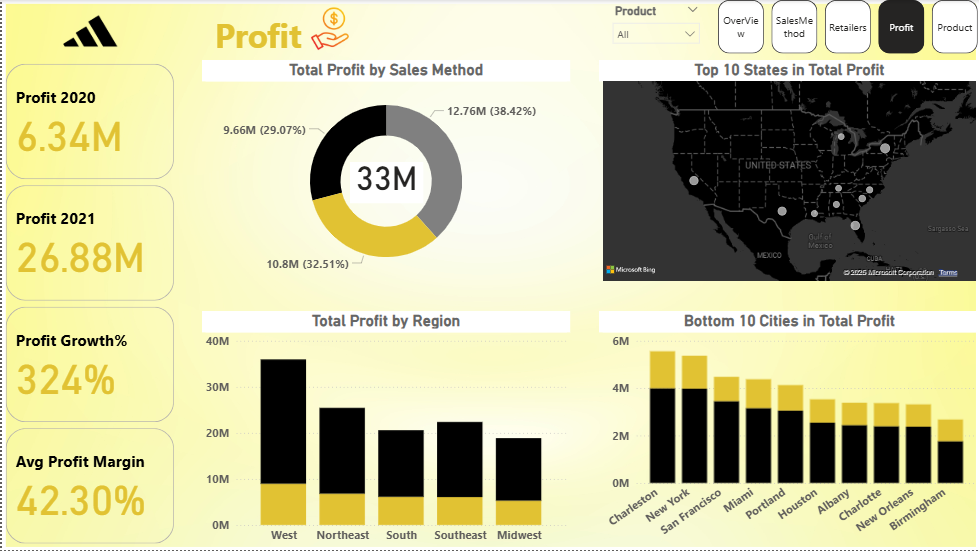

The page's visual inventory and layout, read from the dashboard file:
{"tool":"powerbi","page":{"name":"Profit","canvas":[1280,720],"ordinal":3},"visuals":[{"type":"image","box":[0,0,1280,720.7],"z":0},{"type":"columnChart","title":"Bottom 10 Cities in Total Profit","fields":{"Category":["DimCity.City"],"Y":["My measures.Total Sales","My measures.Total Profit"]},"box":[781.1,406.5,498.9,314.1],"z":1000},{"type":"columnChart","title":"Total Profit by Region","fields":{"Category":["DimRegion.Region"],"Y":["My measures.Total Profit","My measures.Total Sales"]},"box":[262,406.5,482.1,314.1],"z":2000},{"type":"map","title":" Top 10 States in Total Profit","fields":{"Category":["DimState.State"],"Size":["My measures.Total Profit"]},"box":[781.1,79,498.9,294],"z":3000},{"type":"cardVisual","fields":{"Data":["My measures.Profit 2020","My measures.Profit 2021","My measures.Profit Growth%","Avg(Fact Data Sales Adidas.Operating( Profit)Margin)"]},"box":[0,79,230.1,641.7],"z":4000},{"type":"donutChart","fields":{"Y":["My measures.Total Profit"],"Category":["DimSales Method.Sales Method"]},"box":[262,79,482.1,294],"z":5000},{"type":"card","fields":{"Values":["My measures.Total Profit"]},"box":[455.2,211.7,95.7,53.8],"z":6000},{"type":"image","box":[0,0,230.1,80.6],"z":7000},{"type":"textbox","box":[273.8,11.8,299,67.2],"z":8000},{"type":"image","box":[376.3,3.4,107.5,67.2],"z":9000},{"type":"pageNavigator","box":[937.5,0,342.5,70.6],"z":10000},{"type":"slicer","fields":{"Values":["DimProduct.Product"]},"box":[789.2,0,134.2,70.6],"z":11000}]}

Visuals, with their boxes in screenshot pixels (x1, y1, x2, y2), scaled from the page's 1280x720 canvas onto the 979x551 screenshot:
image: [0,0,978,550]
"Bottom 10 Cities in Total Profit" columnChart: [597,311,978,550]
"Total Profit by Region" columnChart: [200,311,569,550]
" Top 10 States in Total Profit" map: [597,60,978,285]
cardVisual - My measures.Profit 2020 x My measures.Profit 2021: [0,60,176,550]
donutChart - My measures.Total Profit x DimSales Method.Sales Method: [200,60,569,285]
card - My measures.Total Profit: [348,162,421,203]
image: [0,0,176,62]
textbox: [209,9,438,60]
image: [288,3,370,54]
pageNavigator: [717,0,978,54]
slicer - DimProduct.Product: [604,0,706,54]
